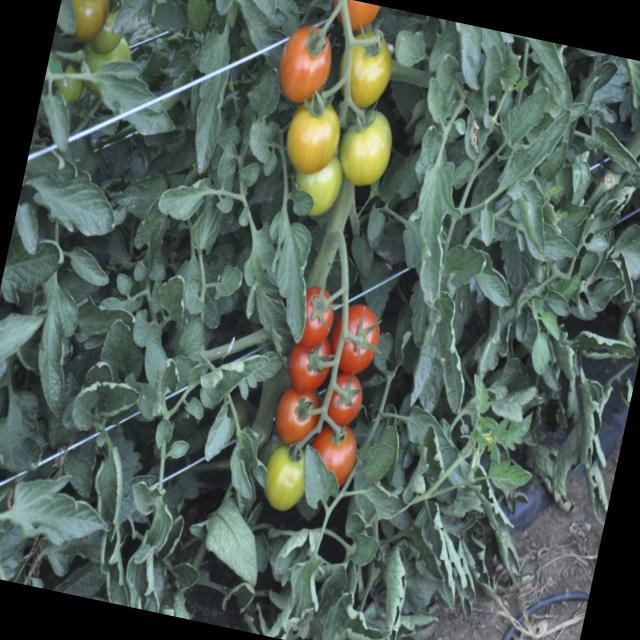TOMATO: (280, 91, 348, 181), (334, 100, 400, 184), (270, 27, 336, 110), (253, 443, 316, 518), (336, 31, 396, 107), (291, 156, 350, 227), (268, 386, 329, 449), (286, 282, 340, 352), (308, 418, 359, 488), (340, 298, 388, 364), (325, 364, 368, 434), (282, 338, 328, 396), (60, 0, 116, 45), (331, 0, 383, 34)
